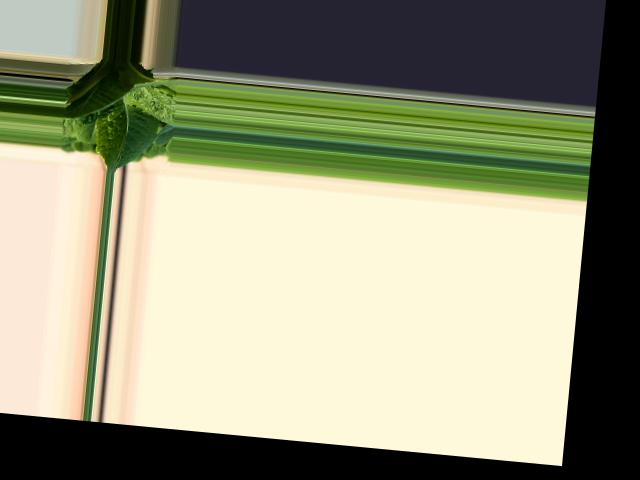lettuce: (61, 55, 168, 166)
